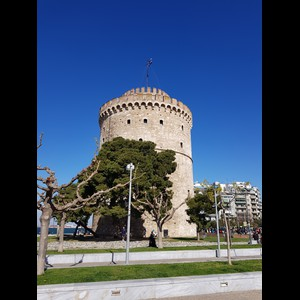White Tower: (90, 60, 199, 240)
